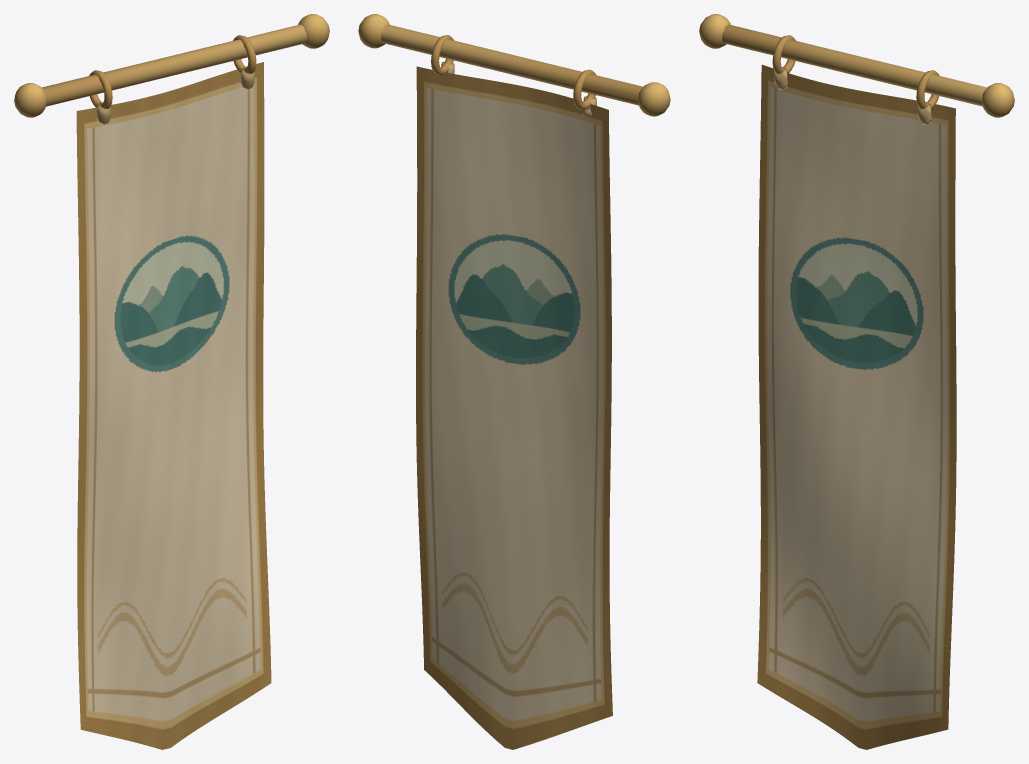
The picture shows the model from 3 angles, left to right: view 1: azimuth 30°, elevation 25°; view 2: azimuth 150°, elevation 25°; view 3: azimuth 330°, elevation 25°; orthographic projection.
Parts seen in each view (by area): view 1: Silk_banner, Bronze_crossbar; view 2: Silk_banner, Bronze_crossbar; view 3: Silk_banner, Bronze_crossbar.
Boxes of the visible parts, box(x1,y1,x2,y2) form: Silk_banner: box(76, 62, 271, 749); Bronze_crossbar: box(14, 14, 329, 117); Silk_banner: box(416, 66, 612, 749); Bronze_crossbar: box(358, 14, 670, 116); Silk_banner: box(757, 64, 956, 749); Bronze_crossbar: box(699, 14, 1014, 117).
Size of the model in its own units: 1.19 by 2.57 by 0.14.
Materials: 5 (1 with a texture image).
